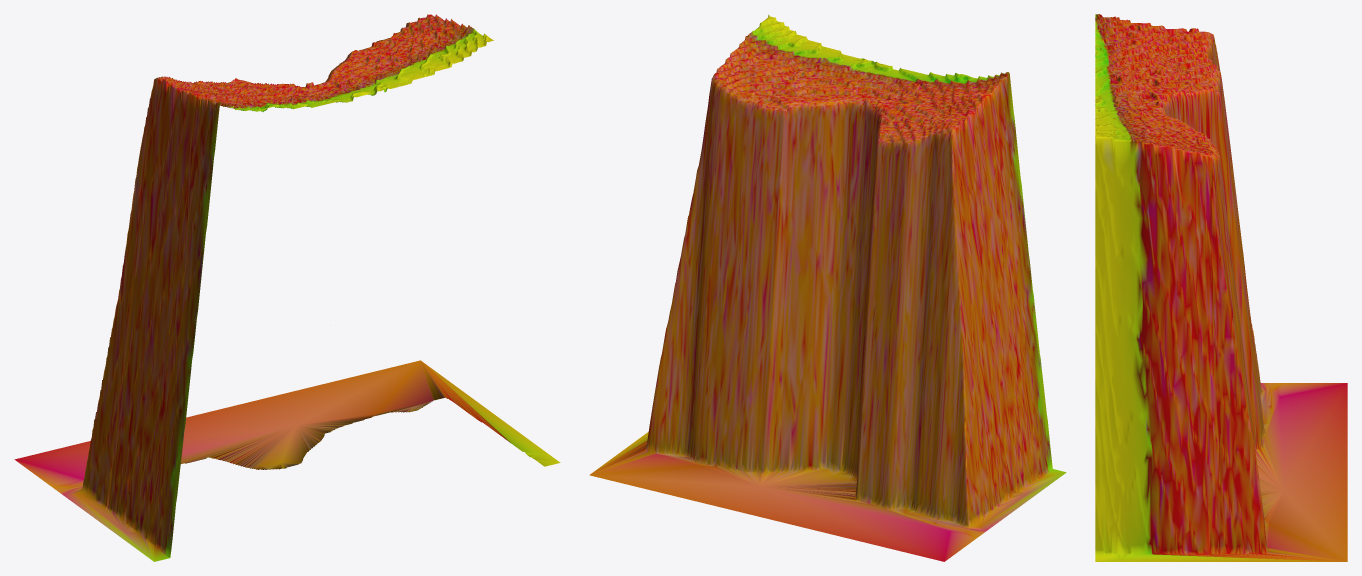
Rendered from sunfall-ledge.glb.
3 views of the same model, side by side, from view 1: azimuth 30°, elevation 25°; view 2: azimuth 150°, elevation 25°; view 3: azimuth 270°, elevation 25° (orthographic). The views are drawn at different scales.
Visible parts, largest first — view 1: Ledge0; view 2: Ledge0; view 3: Ledge0.
Boxes of the visible parts, x1,y1,x2,y2 form: Ledge0: (14,14,560,561); Ledge0: (589,14,1066,561); Ledge0: (1095,14,1347,561).
Size of the model in its own units: 124 by 129 by 74.
